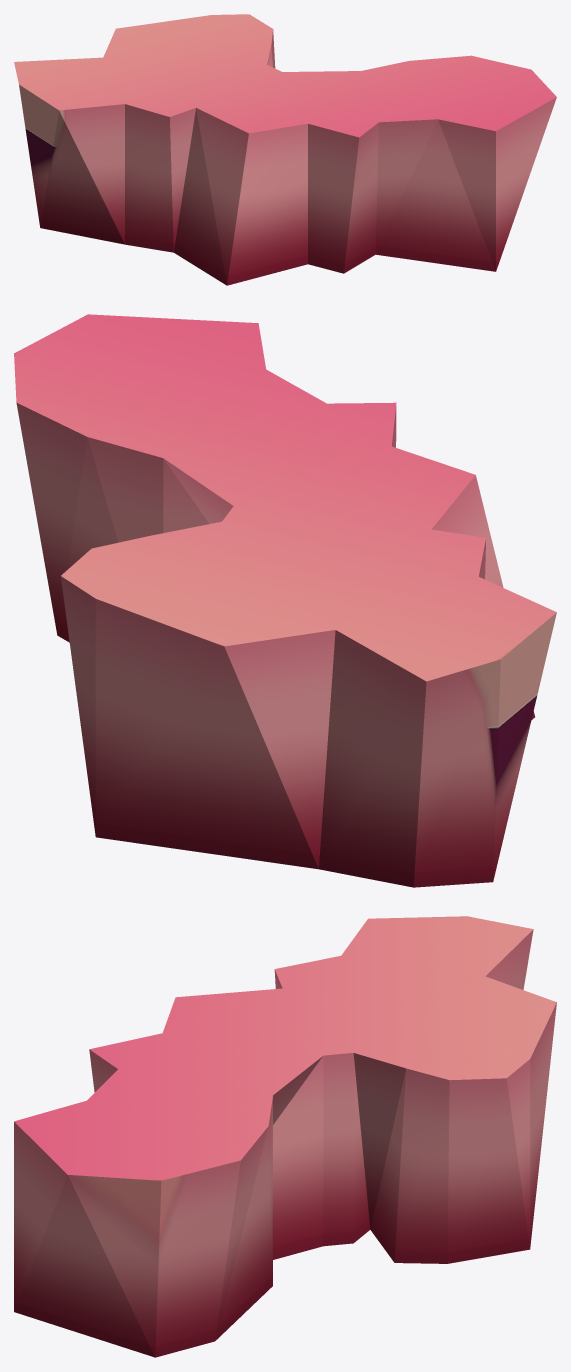
File: Sunset_Ground_002.FBX
The picture shows the model from 3 angles, top to bottom: view 1: azimuth 30°, elevation 25°; view 2: azimuth 150°, elevation 25°; view 3: azimuth 270°, elevation 25°; orthographic projection. The views are drawn at different scales.
Visible parts, largest first — view 1: Sunset_Ground_002; view 2: Sunset_Ground_002; view 3: Sunset_Ground_002.
Boxes of the visible parts, x1,y1,x2,y2 form: Sunset_Ground_002: (14,14,556,285); Sunset_Ground_002: (14,314,556,887); Sunset_Ground_002: (14,916,556,1357).
Bounding box in the file's own units: 2975 × 1000 × 2581.
1 material, 1 textured.
